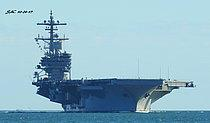MIL_Ship: (31, 8, 196, 114)
